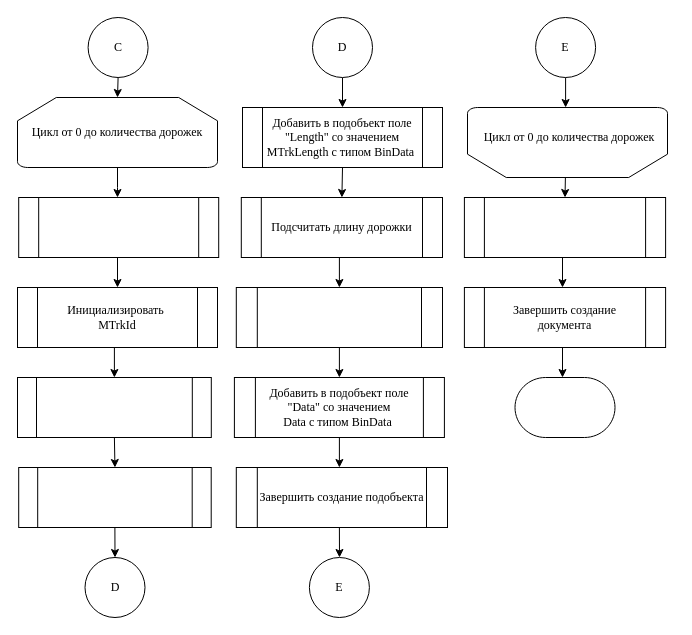
The diagram is 692 pixels wide and 635 high, and some of its shapes have lost their labels. Each missing label, with the centre of its shape:
Добавить в подобъект поле "ID" со значением MTrkId в строковом представлении: (x=113, y=407)
Завершить создание массива подобъектов: (x=564, y=227)
Инициализировать Data: (x=338, y=317)
Инициализировать MTrkLength: (x=114, y=497)
Конец: (x=564, y=407)
Начать создание подобъекта: (x=118, y=227)
